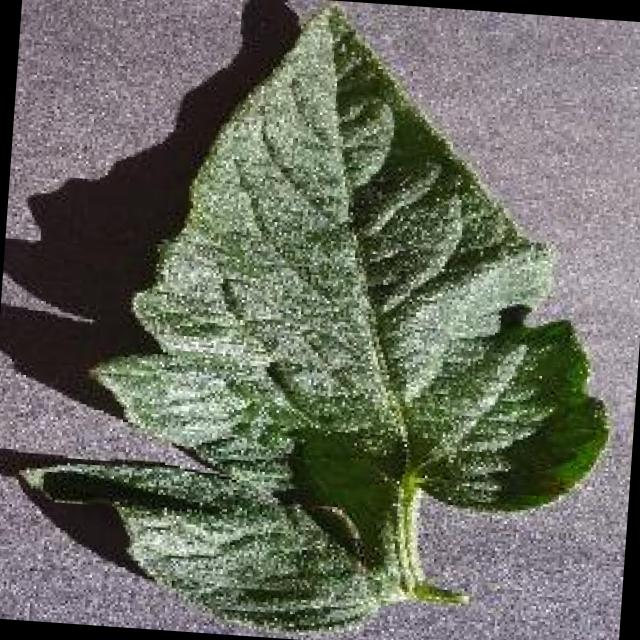Tomato_Healthy: (59, 9, 639, 588)
